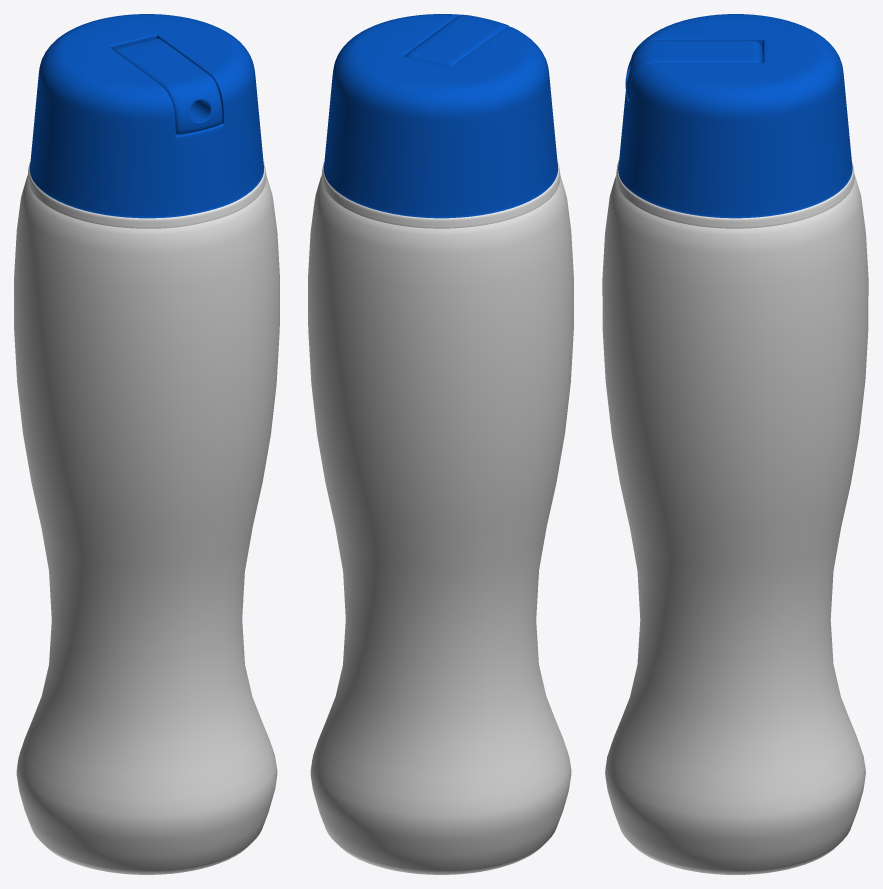
Rendered from botel3.fbx.
3 renders of one model, left to right at view 1: azimuth 30°, elevation 25°; view 2: azimuth 150°, elevation 25°; view 3: azimuth 270°, elevation 25°, orthographic.
Parts seen in each view (by area): view 1: Bottle, Top, Nozzle; view 2: Bottle, Top, Nozzle; view 3: Bottle, Top, Nozzle.
Boxes of the visible parts, x1,y1,x2,y2 form: Bottle: [14, 176, 279, 874]; Top: [27, 14, 266, 228]; Nozzle: [113, 38, 222, 134]; Bottle: [308, 176, 573, 874]; Top: [321, 14, 560, 228]; Nozzle: [406, 14, 509, 67]; Bottle: [602, 175, 868, 874]; Top: [616, 14, 854, 228]; Nozzle: [625, 40, 763, 99].
Bounding box in the file's own units: 62.39 × 202 × 62.39.
